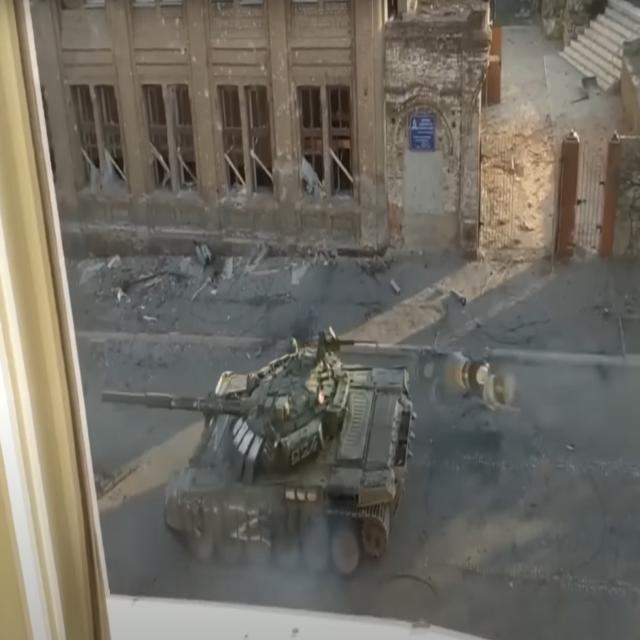MBT: (100, 329, 420, 576)
